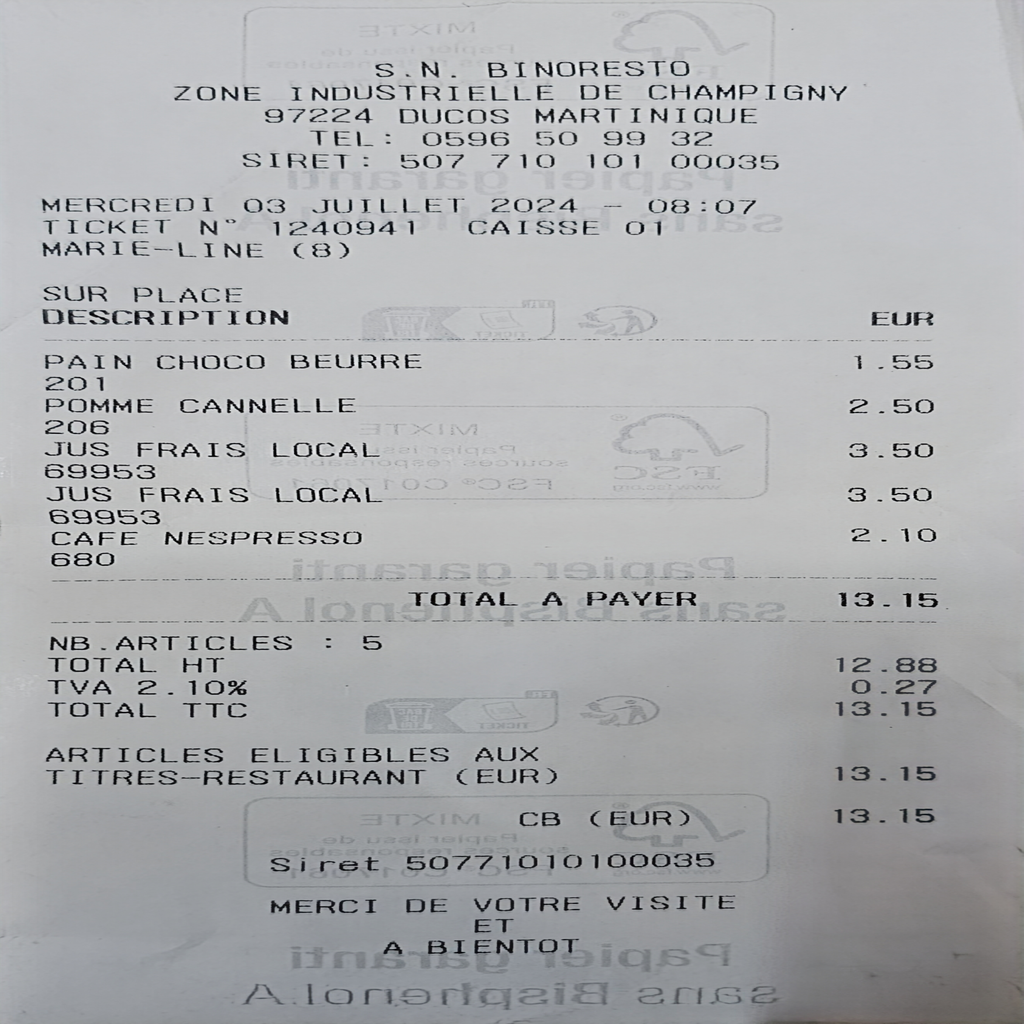recipt: (2, 2, 1020, 1020)
